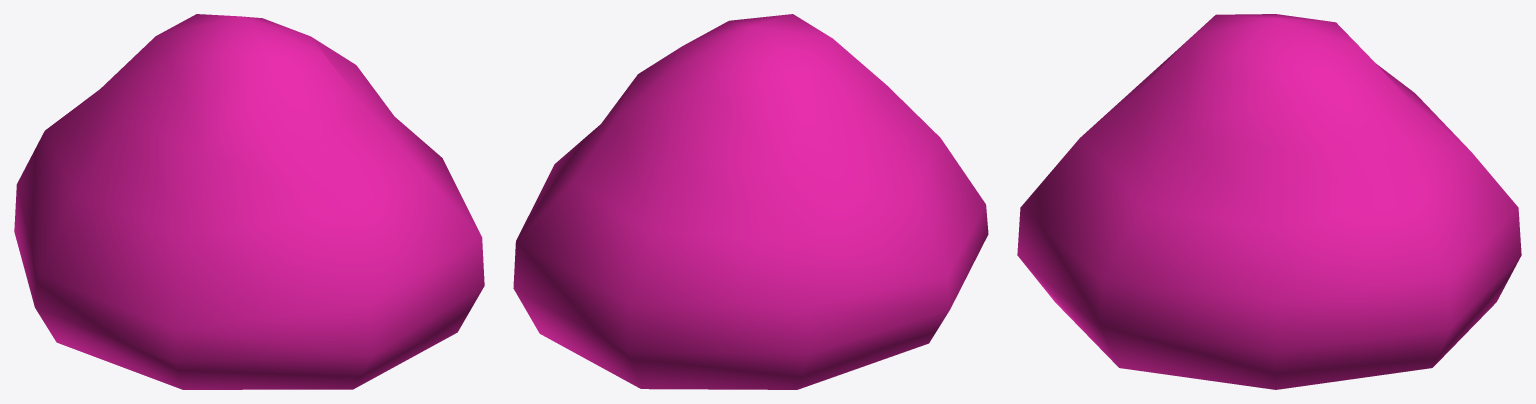
The model's file is Sand.FBX.
3 renders of one model, left to right at view 1: azimuth 30°, elevation 25°; view 2: azimuth 150°, elevation 25°; view 3: azimuth 270°, elevation 25°, orthographic. The views are drawn at different scales.
Visible parts, largest first — view 1: Sand; view 2: Sand; view 3: Sand.
Part boxes in pixels (left/top/right/bottom): Sand: left=14, top=14, right=484, bottom=389; Sand: left=513, top=14, right=988, bottom=389; Sand: left=1017, top=14, right=1521, bottom=389.
Bounding box in the file's own units: 9.38 × 6.86 × 10.24.
